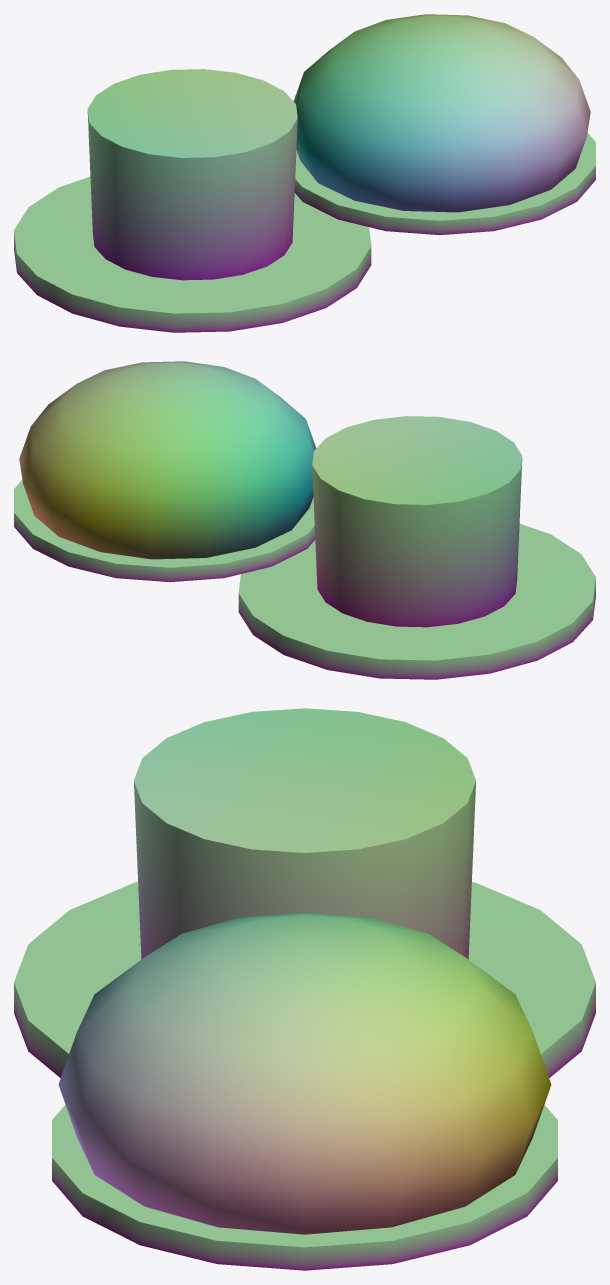
Rendered from hall_hats.glb.
3 views of the same model, one above another, from view 1: azimuth 30°, elevation 25°; view 2: azimuth 150°, elevation 25°; view 3: azimuth 270°, elevation 25° (orthographic). The views are drawn at different scales.
Visible parts, largest first — view 1: hall_hats; view 2: hall_hats; view 3: hall_hats.
Part boxes in pixels (box(x1,y1,x2,y2)): hall_hats: box(14, 14, 595, 332); hall_hats: box(14, 361, 595, 679); hall_hats: box(14, 708, 595, 1270).
Size of the model in its own units: 0.59 by 0.18 by 0.34.
